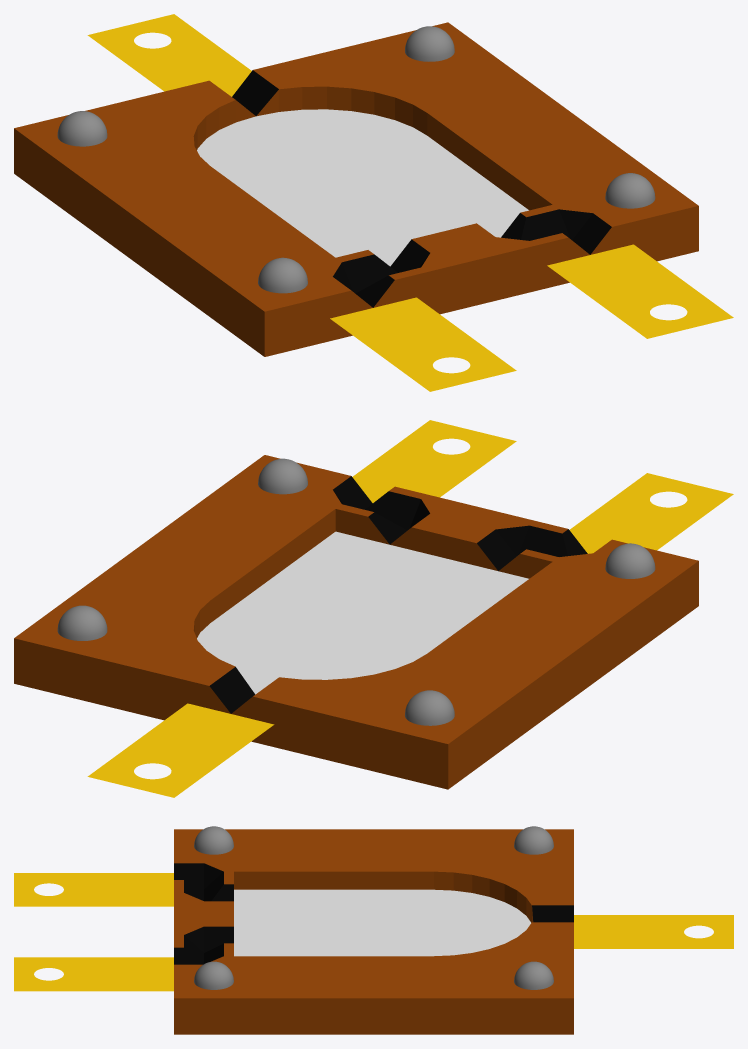
The model's file is logic_gate_and.fbx.
3 views of the same model, one above another, from view 1: azimuth 30°, elevation 25°; view 2: azimuth 150°, elevation 25°; view 3: azimuth 270°, elevation 25° (orthographic). The views are drawn at different scales.
Parts seen in each view (by area): view 1: logic gate and; view 2: logic gate and; view 3: logic gate and.
Part boxes in pixels (left/top/right/bottom): logic gate and: left=14, top=14, right=733, bottom=391; logic gate and: left=14, top=420, right=733, bottom=797; logic gate and: left=14, top=826, right=733, bottom=1034.
Bounding box in the file's own units: 200 × 30 × 360.
